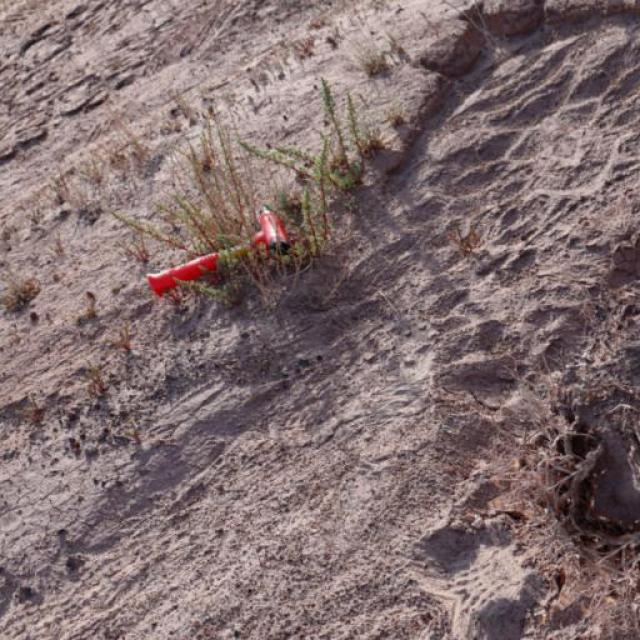mallet: (146, 205, 294, 299)
